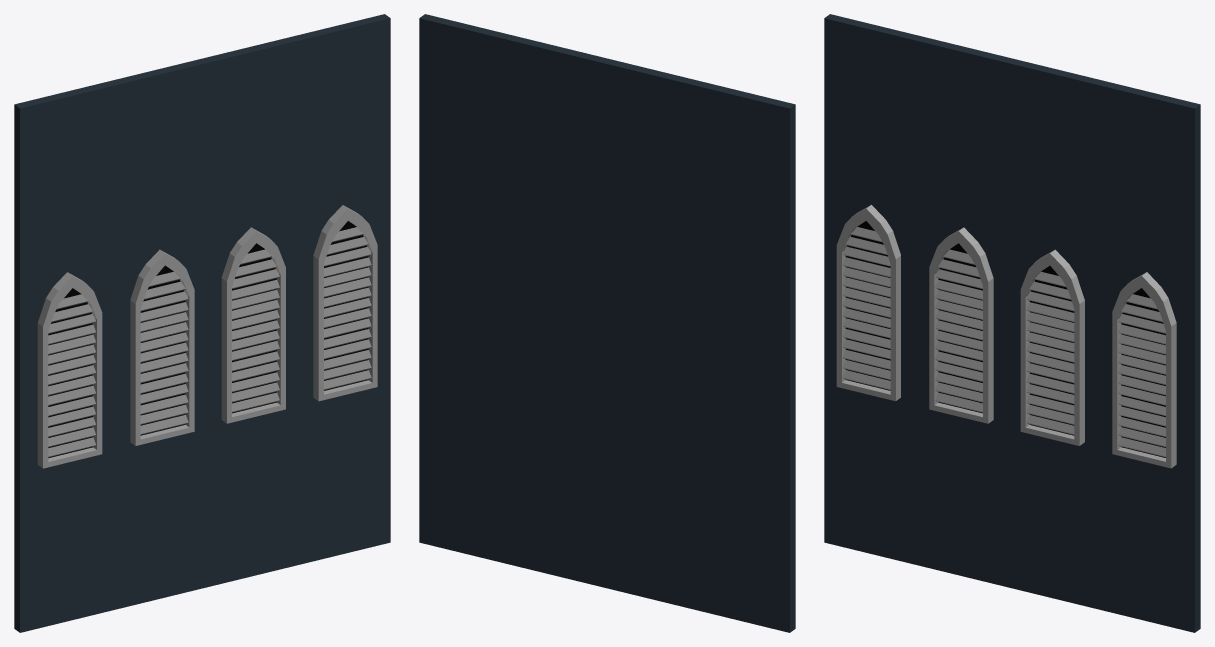
File: front_tower_window_wall1.glb
3 renders of one model, left to right at view 1: azimuth 30°, elevation 25°; view 2: azimuth 150°, elevation 25°; view 3: azimuth 330°, elevation 25°, orthographic.
Parts seen in each view (by area): view 1: Cube.070, Cube.019, Cube.036, Cube.002, Cube.053, Cube.035, Cube.018, Cube.001, Cube.052; view 2: Cube.070; view 3: Cube.070, Cube.019, Cube.053, Cube.002, Cube.036, Cube.052, Cube.018, Cube.001, Cube.035.
Part boxes in pixels (x1=…): Cube.070: x1=14, y1=14, x2=390, y2=632; Cube.019: x1=37, y1=272, x2=102, y2=468; Cube.036: x1=130, y1=249, x2=194, y2=445; Cube.002: x1=313, y1=205, x2=377, y2=401; Cube.053: x1=221, y1=227, x2=285, y2=423; Cube.035: x1=140, y1=265, x2=185, y2=435; Cube.018: x1=48, y1=288, x2=92, y2=458; Cube.001: x1=324, y1=221, x2=368, y2=390; Cube.052: x1=232, y1=243, x2=276, y2=413; Cube.070: x1=419, y1=14, x2=795, y2=632; Cube.070: x1=824, y1=14, x2=1200, y2=632; Cube.019: x1=836, y1=205, x2=900, y2=401; Cube.053: x1=1020, y1=249, x2=1084, y2=445; Cube.002: x1=1112, y1=272, x2=1176, y2=468; Cube.036: x1=929, y1=227, x2=993, y2=423; Cube.052: x1=1029, y1=265, x2=1074, y2=435; Cube.018: x1=845, y1=221, x2=890, y2=390; Cube.001: x1=1121, y1=288, x2=1165, y2=457; Cube.035: x1=938, y1=243, x2=982, y2=413.
Size of the model in its own units: 11.89 by 16.09 by 0.6158.
